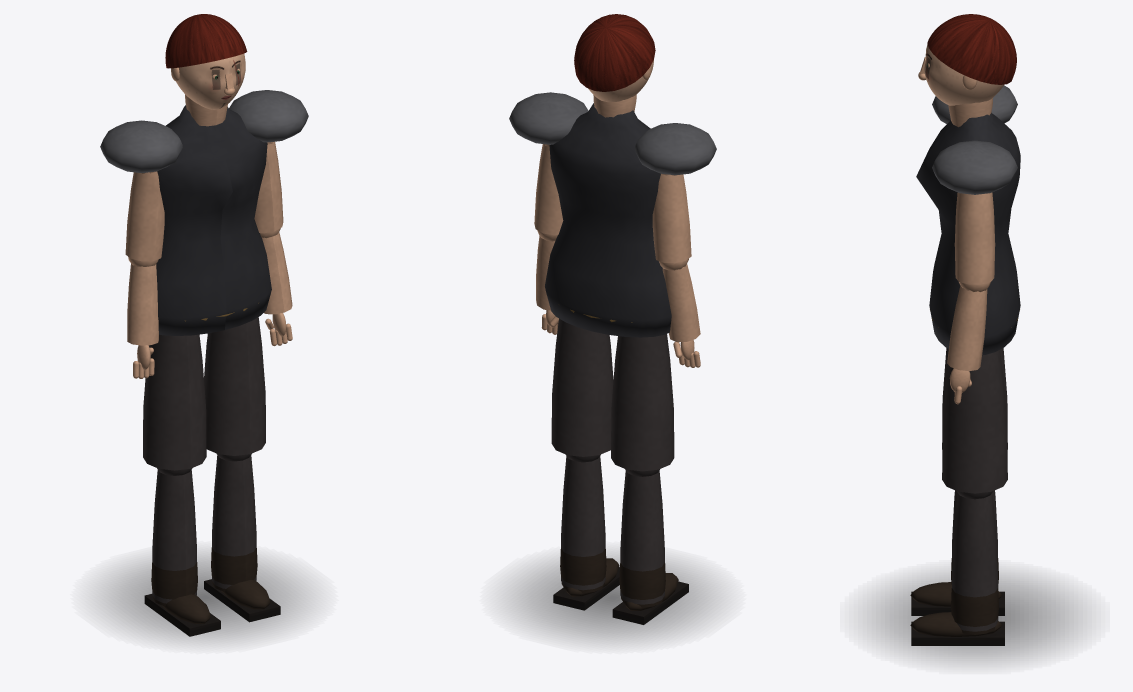
The model's file is npc_sable.glb.
3 renders of one model, left to right at view 1: azimuth 30°, elevation 25°; view 2: azimuth 150°, elevation 25°; view 3: azimuth 270°, elevation 25°, orthographic. The views are drawn at different scales.
Visible parts, largest first — view 1: chest, object 11, legL, legR, shinR, shinL, head, foreL, armL, foreR, armR; view 2: chest, object 11, legL, legR, shinL, shinR, head, armL, foreL, armR, foreR; view 3: chest, object 11, shinR, legR, head, armR, foreR, shinL, legL.
Part boxes in pixels (left/top/right/bottom): chest: left=100, top=90, right=308, bottom=335; object 11: left=98, top=552, right=310, bottom=642; legL: left=143, top=334, right=206, bottom=470; legR: left=204, top=317, right=265, bottom=455; shinR: left=204, top=453, right=280, bottom=622; shinL: left=144, top=468, right=220, bottom=636; head: left=165, top=14, right=247, bottom=109; foreL: left=127, top=256, right=158, bottom=378; armL: left=125, top=171, right=164, bottom=261; foreR: left=260, top=228, right=292, bottom=346; armR: left=254, top=141, right=283, bottom=233; chest: left=509, top=92, right=716, bottom=337; object 11: left=507, top=553, right=719, bottom=642; legL: left=611, top=334, right=674, bottom=471; legR: left=551, top=318, right=613, bottom=456; shinL: left=612, top=469, right=688, bottom=624; shinR: left=553, top=454, right=619, bottom=610; head: left=574, top=14, right=655, bottom=102; armL: left=652, top=173, right=691, bottom=263; foreL: left=659, top=258, right=700, bottom=367; armR: left=534, top=144, right=563, bottom=235; foreR: left=536, top=230, right=558, bottom=334; chest: left=916, top=85, right=1020, bottom=355; object 11: left=867, top=572, right=1082, bottom=662; shinR: left=910, top=491, right=1004, bottom=645; legR: left=942, top=350, right=1007, bottom=493; head: left=918, top=14, right=1016, bottom=105; armR: left=954, top=192, right=995, bottom=284; foreR: left=947, top=282, right=990, bottom=404; shinL: left=910, top=490, right=1004, bottom=615; legL: left=942, top=348, right=1007, bottom=449.
Bounding box in the file's own units: 0.77 × 1.79 × 0.77.
6 materials, 5 textured.
